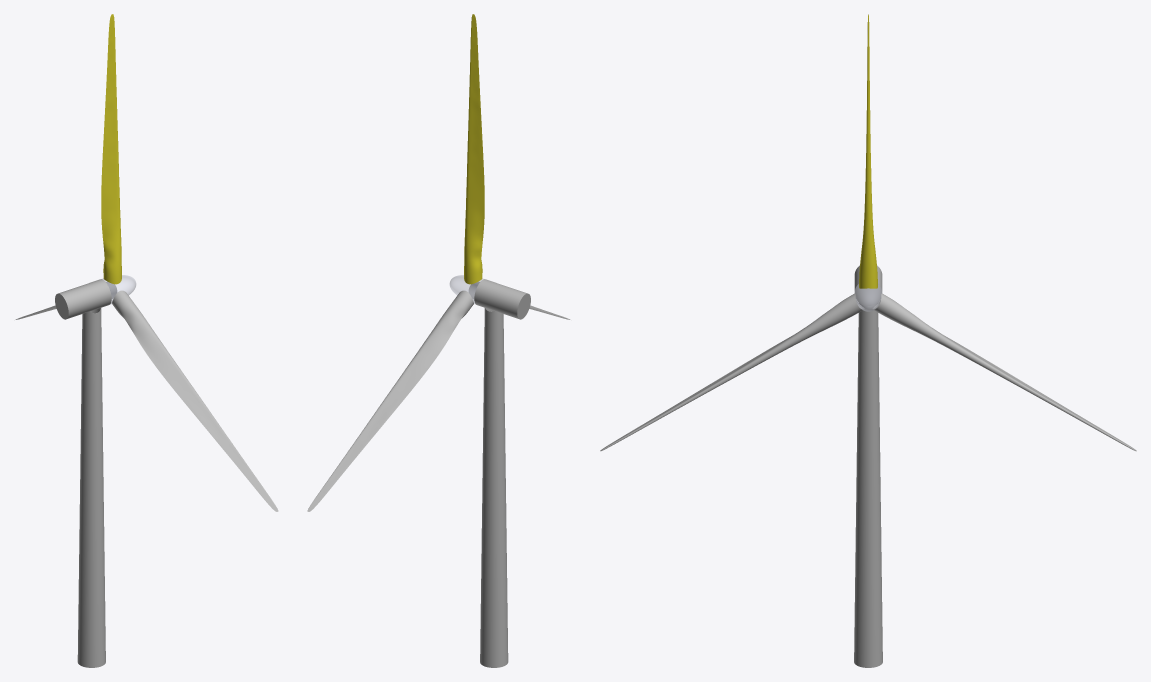
The picture shows the model from 3 angles, left to right: view 1: azimuth 30°, elevation 25°; view 2: azimuth 150°, elevation 25°; view 3: azimuth 270°, elevation 25°; orthographic projection. The views are drawn at different scales.
Parts seen in each view (by area): view 1: Tower-1, Blade-1, Blade2-1, Nacelle-1; view 2: Tower-1, Blade-1, Blade3-1, Nacelle-1; view 3: Tower-1, Blade2-1, Blade3-1, Blade-1.
Boxes of the visible parts, box(x1,y1,x2,y2) form: Tower-1: box(77, 308, 105, 667); Blade-1: box(101, 14, 121, 284); Blade2-1: box(112, 290, 278, 511); Nacelle-1: box(55, 279, 111, 319); Tower-1: box(480, 308, 508, 667); Blade-1: box(464, 14, 484, 284); Blade3-1: box(307, 290, 473, 511); Nacelle-1: box(474, 279, 530, 319); Tower-1: box(854, 303, 882, 667); Blade2-1: box(600, 293, 864, 451); Blade3-1: box(872, 293, 1136, 451); Blade-1: box(859, 14, 877, 288).
Size of the model in its own units: 29.52 by 208 by 154.
